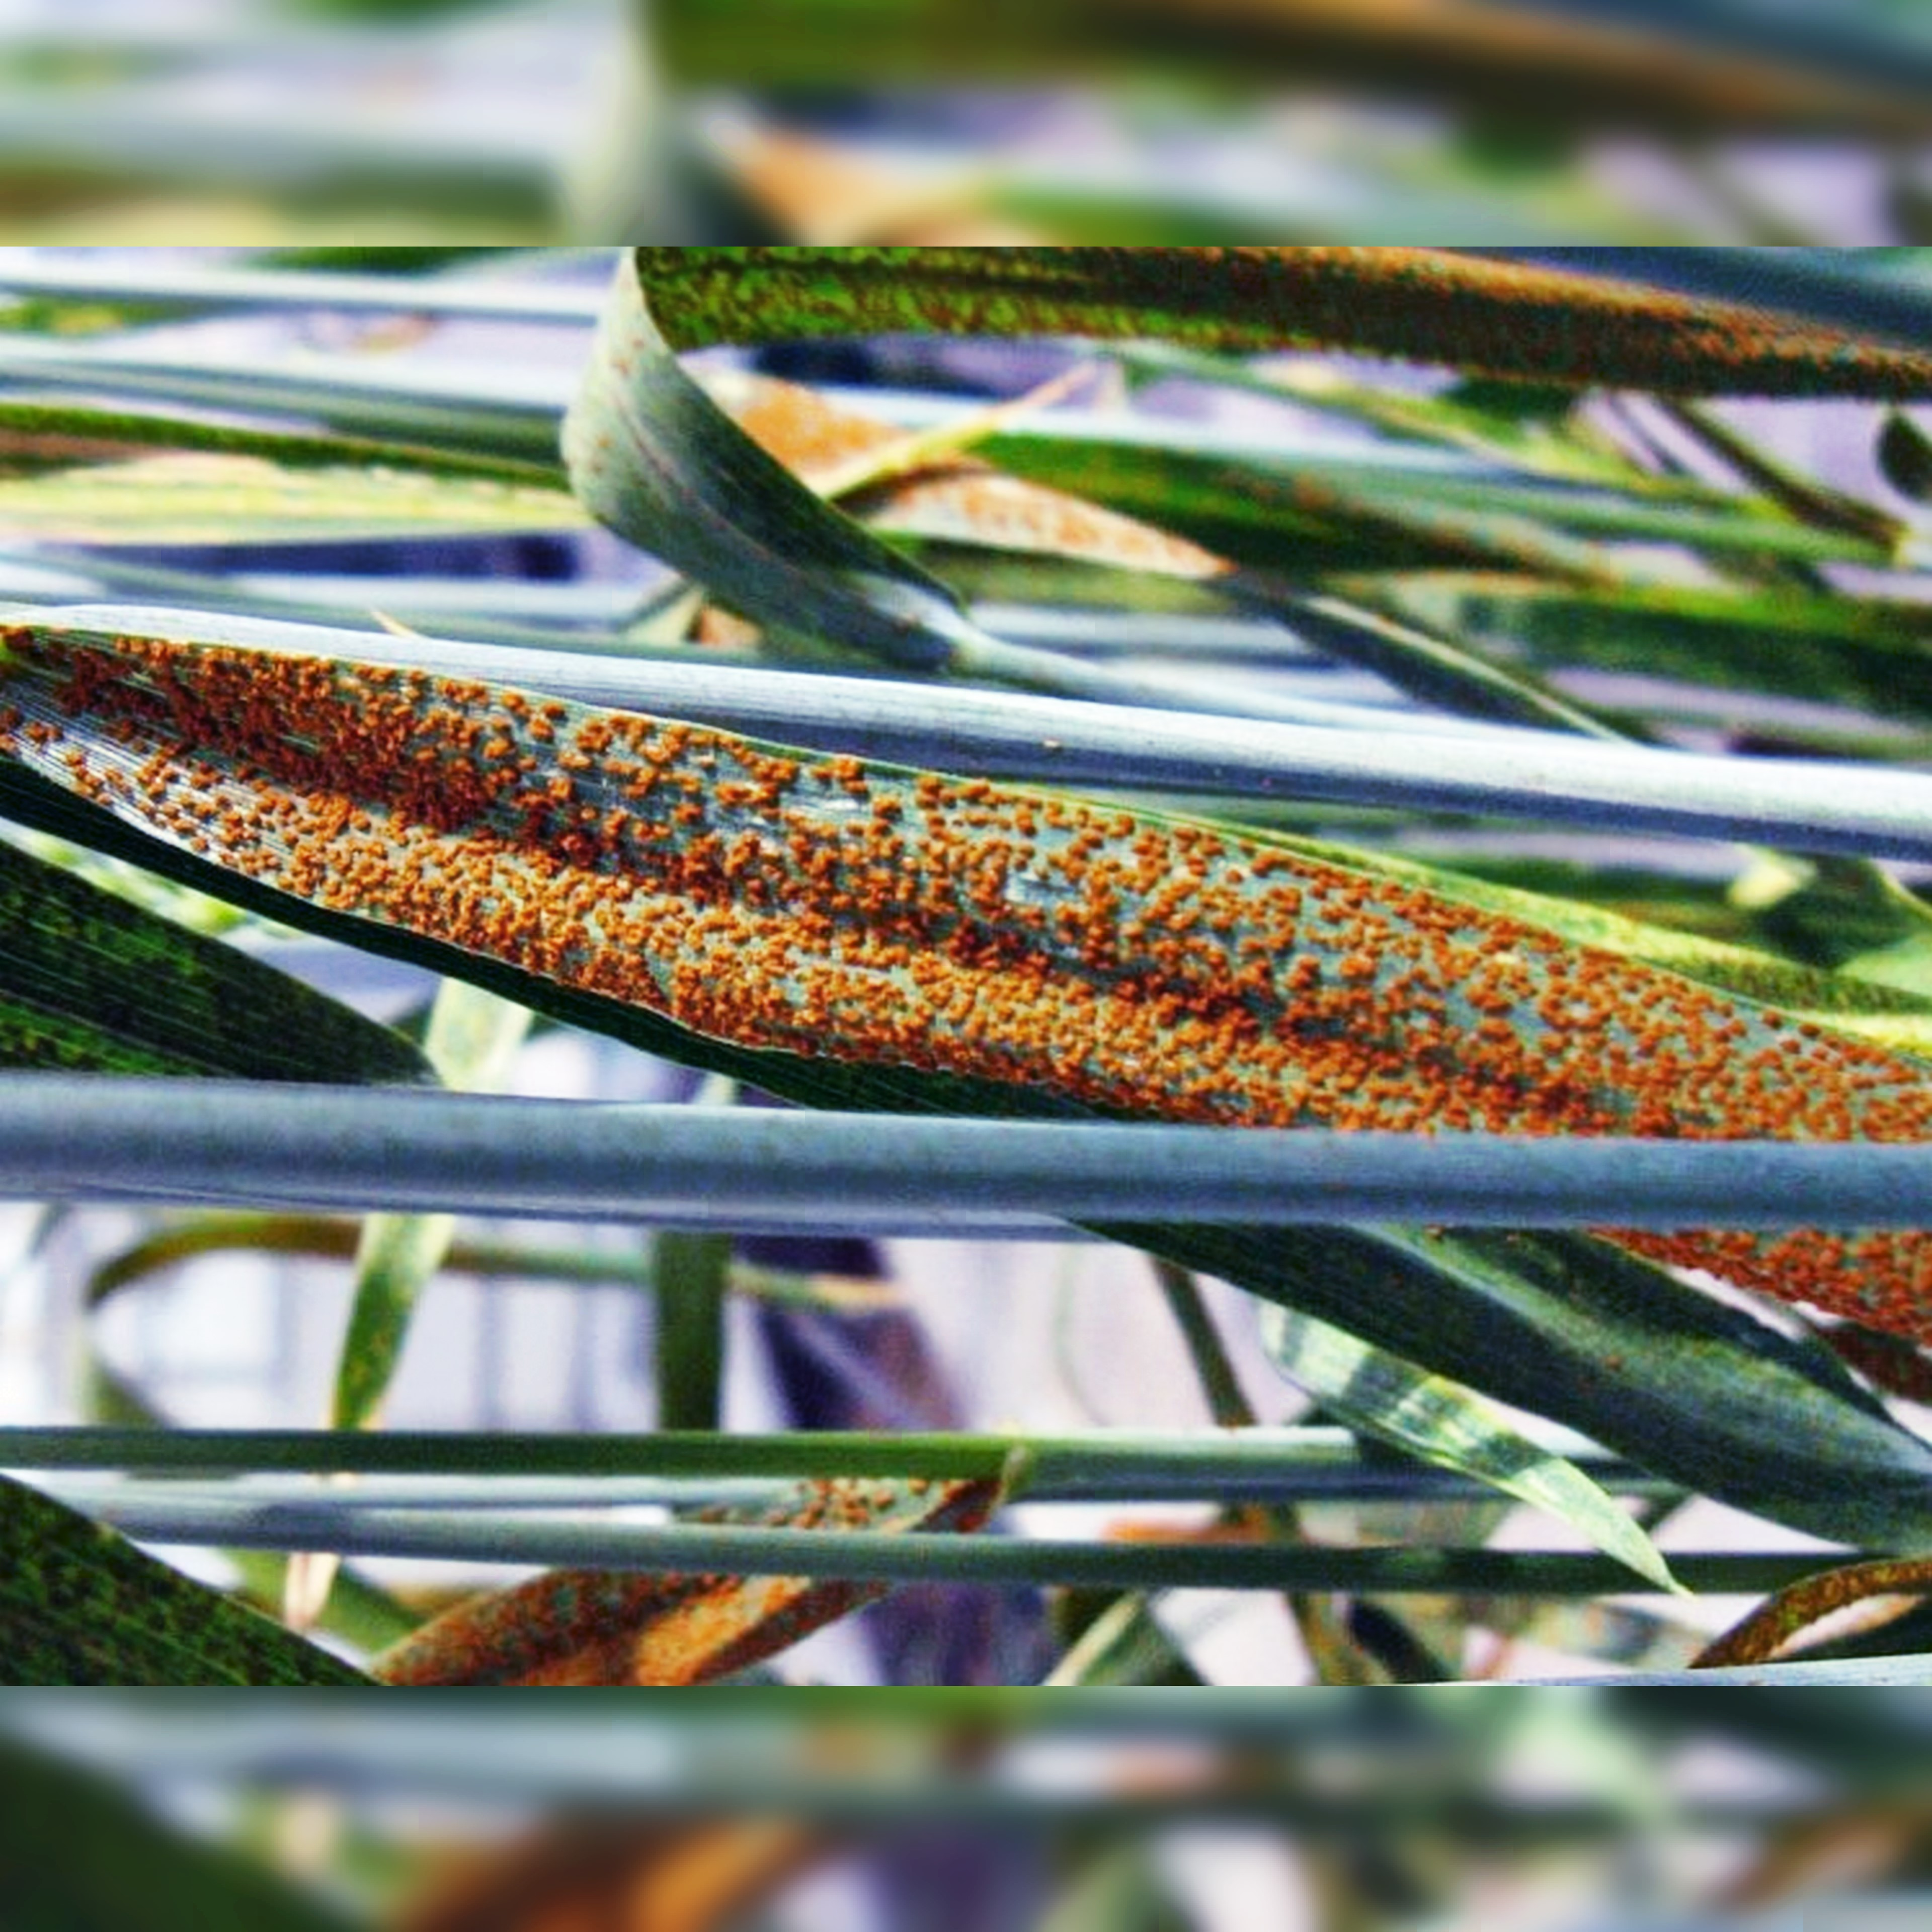Leaf Rust: (131, 660, 1930, 1182)
